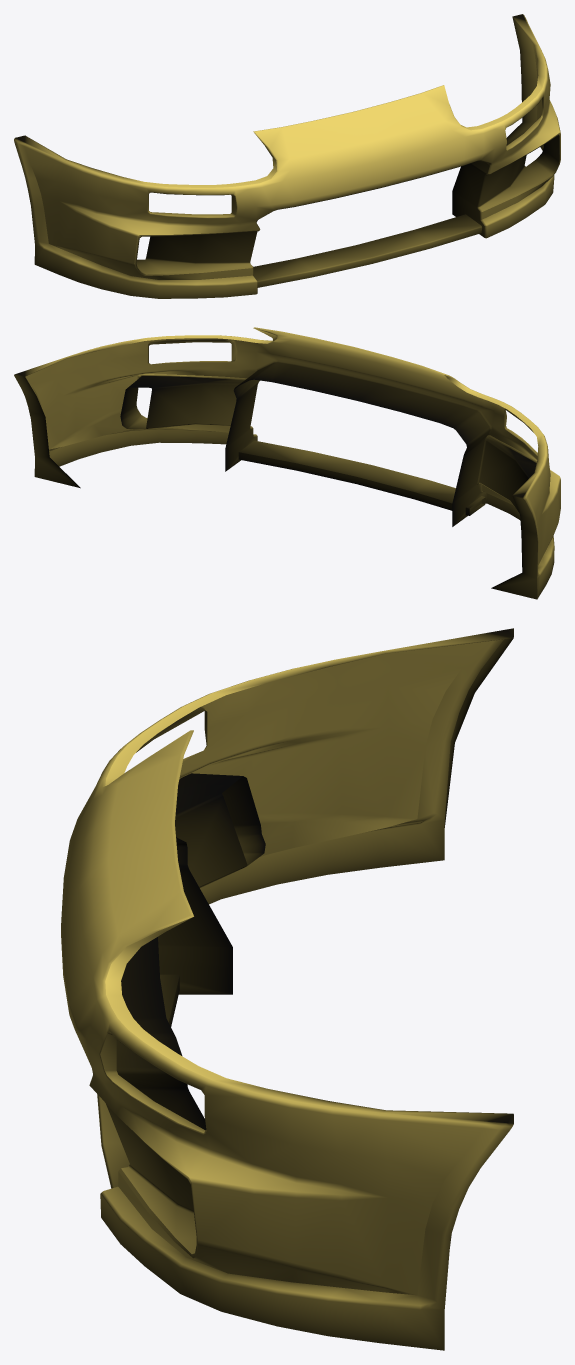
Rendered from Supra_FrontBar_05_Duco.fbx.
3 views of the same model, one above another, from view 1: azimuth 30°, elevation 25°; view 2: azimuth 150°, elevation 25°; view 3: azimuth 270°, elevation 25° (orthographic). The views are drawn at different scales.
Parts seen in each view (by area): view 1: Supra_FrontBar_05_Duco; view 2: Supra_FrontBar_05_Duco; view 3: Supra_FrontBar_05_Duco.
Boxes of the visible parts, x1,y1,x2,y2 form: Supra_FrontBar_05_Duco: (14, 14, 560, 298); Supra_FrontBar_05_Duco: (14, 327, 560, 599); Supra_FrontBar_05_Duco: (61, 628, 513, 1350).
Bounding box in the file's own units: 177 × 46.7 × 67.86.
